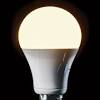bulb: (13, 4, 84, 81)
